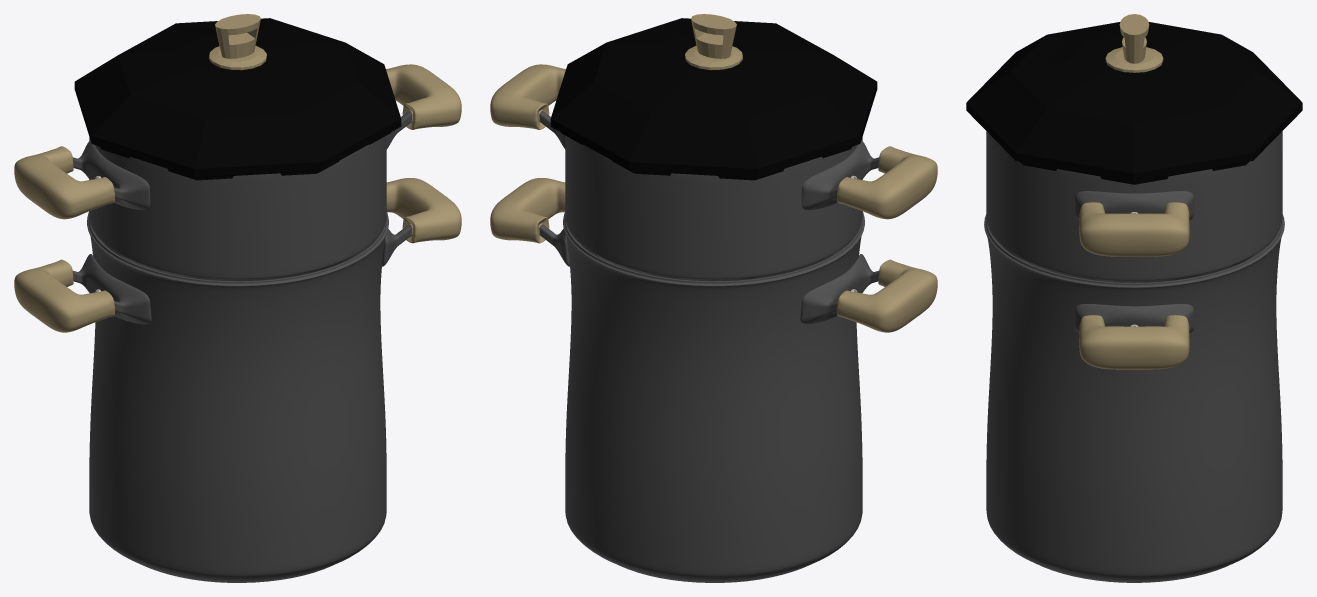
File: Couscous+cooker.FBX
3 views of the same model, side by side, from view 1: azimuth 30°, elevation 25°; view 2: azimuth 150°, elevation 25°; view 3: azimuth 270°, elevation 25° (orthographic).
Parts seen in each view (by area): view 1: Cylinder765, Lid, Cylinder764, Bottom section, Mid section, Cylinder768; view 2: Cylinder765, Lid, Cylinder764, Bottom section, Mid section, Cylinder768; view 3: Cylinder765, Lid, Cylinder764, Bottom section, Mid section, Cylinder768.
Boxes of the visible parts, bbox=[...] form: Cylinder765: bbox=[87, 211, 388, 582]; Lid: bbox=[74, 18, 401, 180]; Cylinder764: bbox=[89, 135, 386, 281]; Bottom section: bbox=[14, 178, 461, 332]; Mid section: bbox=[14, 64, 461, 219]; Cylinder768: bbox=[209, 14, 266, 70]; Cylinder765: bbox=[563, 211, 864, 582]; Lid: bbox=[550, 18, 877, 180]; Cylinder764: bbox=[565, 135, 862, 281]; Bottom section: bbox=[490, 178, 937, 332]; Mid section: bbox=[490, 64, 937, 219]; Cylinder768: bbox=[685, 14, 742, 70]; Cylinder765: bbox=[984, 214, 1284, 582]; Lid: bbox=[966, 22, 1302, 184]; Cylinder764: bbox=[986, 131, 1282, 282]; Bottom section: bbox=[1074, 304, 1194, 369]; Mid section: bbox=[1074, 191, 1194, 256]; Cylinder768: bbox=[1105, 14, 1163, 72].
Bounding box in the file's own units: 36.01 × 42.63 × 25.78.
